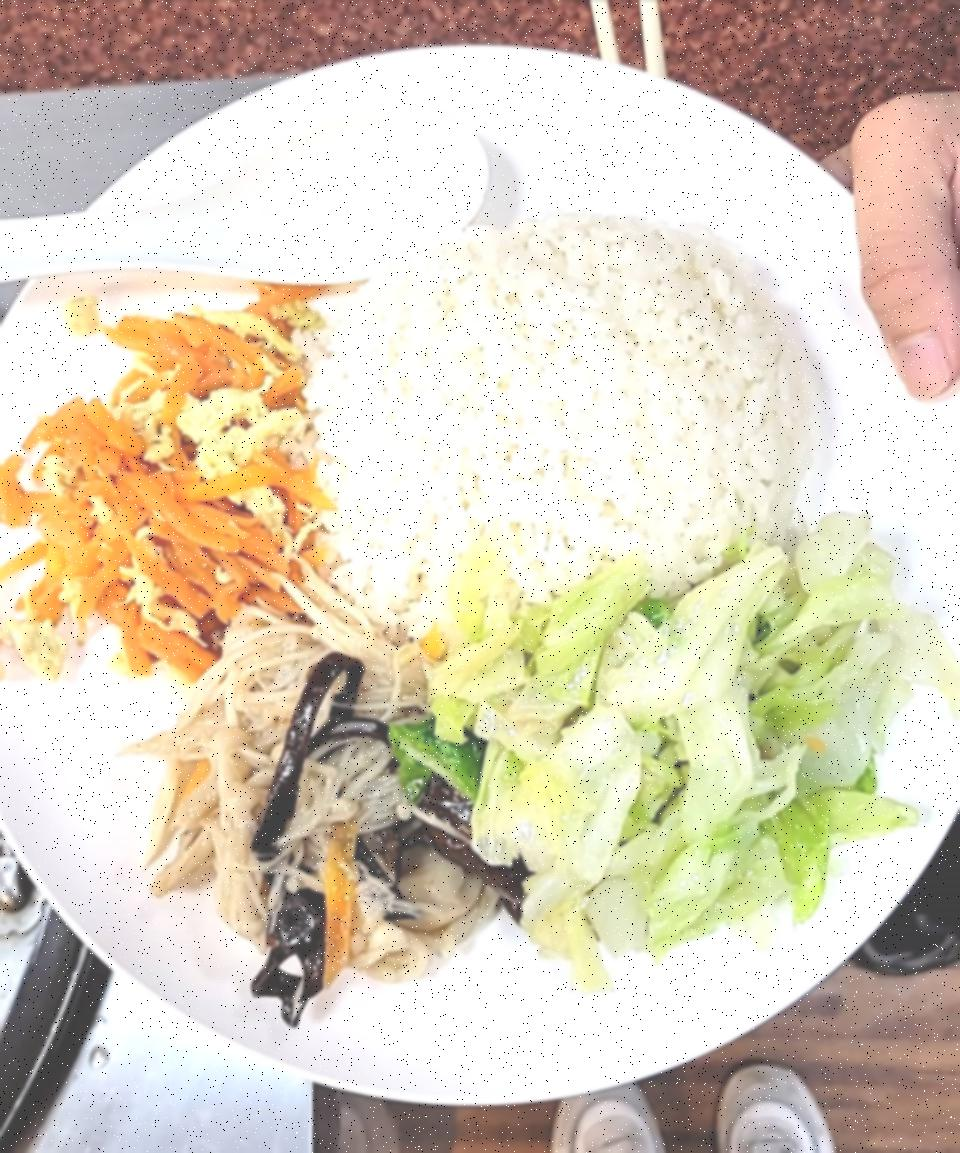plate: (0, 51, 960, 1120)
side dish: (411, 510, 942, 967), (131, 598, 492, 1003), (16, 288, 330, 666)
white rice: (317, 213, 817, 642)
